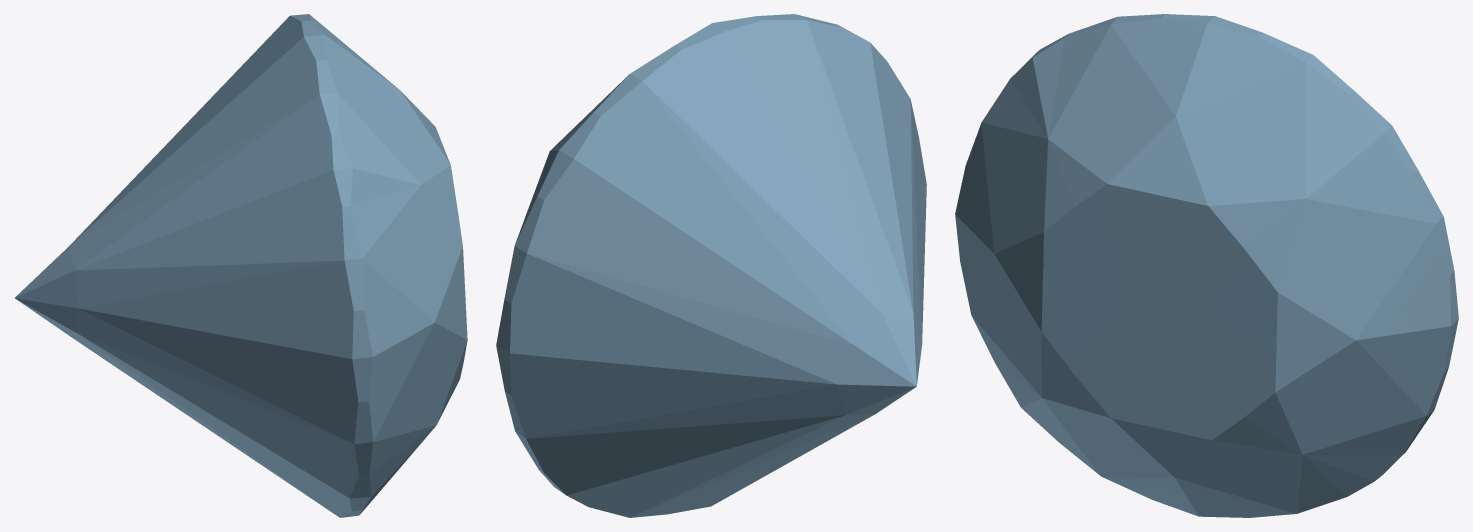
Rendered from BR5_8shapes_Round_Classic_Stone.001 3.glb.
3 views of the same model, side by side, from view 1: azimuth 30°, elevation 25°; view 2: azimuth 150°, elevation 25°; view 3: azimuth 270°, elevation 25° (orthographic). The views are drawn at different scales.
Parts seen in each view (by area): view 1: BR5_8shapes_Round_Classic_Stone.001; view 2: BR5_8shapes_Round_Classic_Stone.001; view 3: BR5_8shapes_Round_Classic_Stone.001.
Boxes of the visible parts, x1,y1,x2,y2 form: BR5_8shapes_Round_Classic_Stone.001: (15,14,467,517); BR5_8shapes_Round_Classic_Stone.001: (496,14,926,517); BR5_8shapes_Round_Classic_Stone.001: (955,14,1458,517).
Size of the model in its own units: 0.4307 by 0.4837 by 0.4559.
